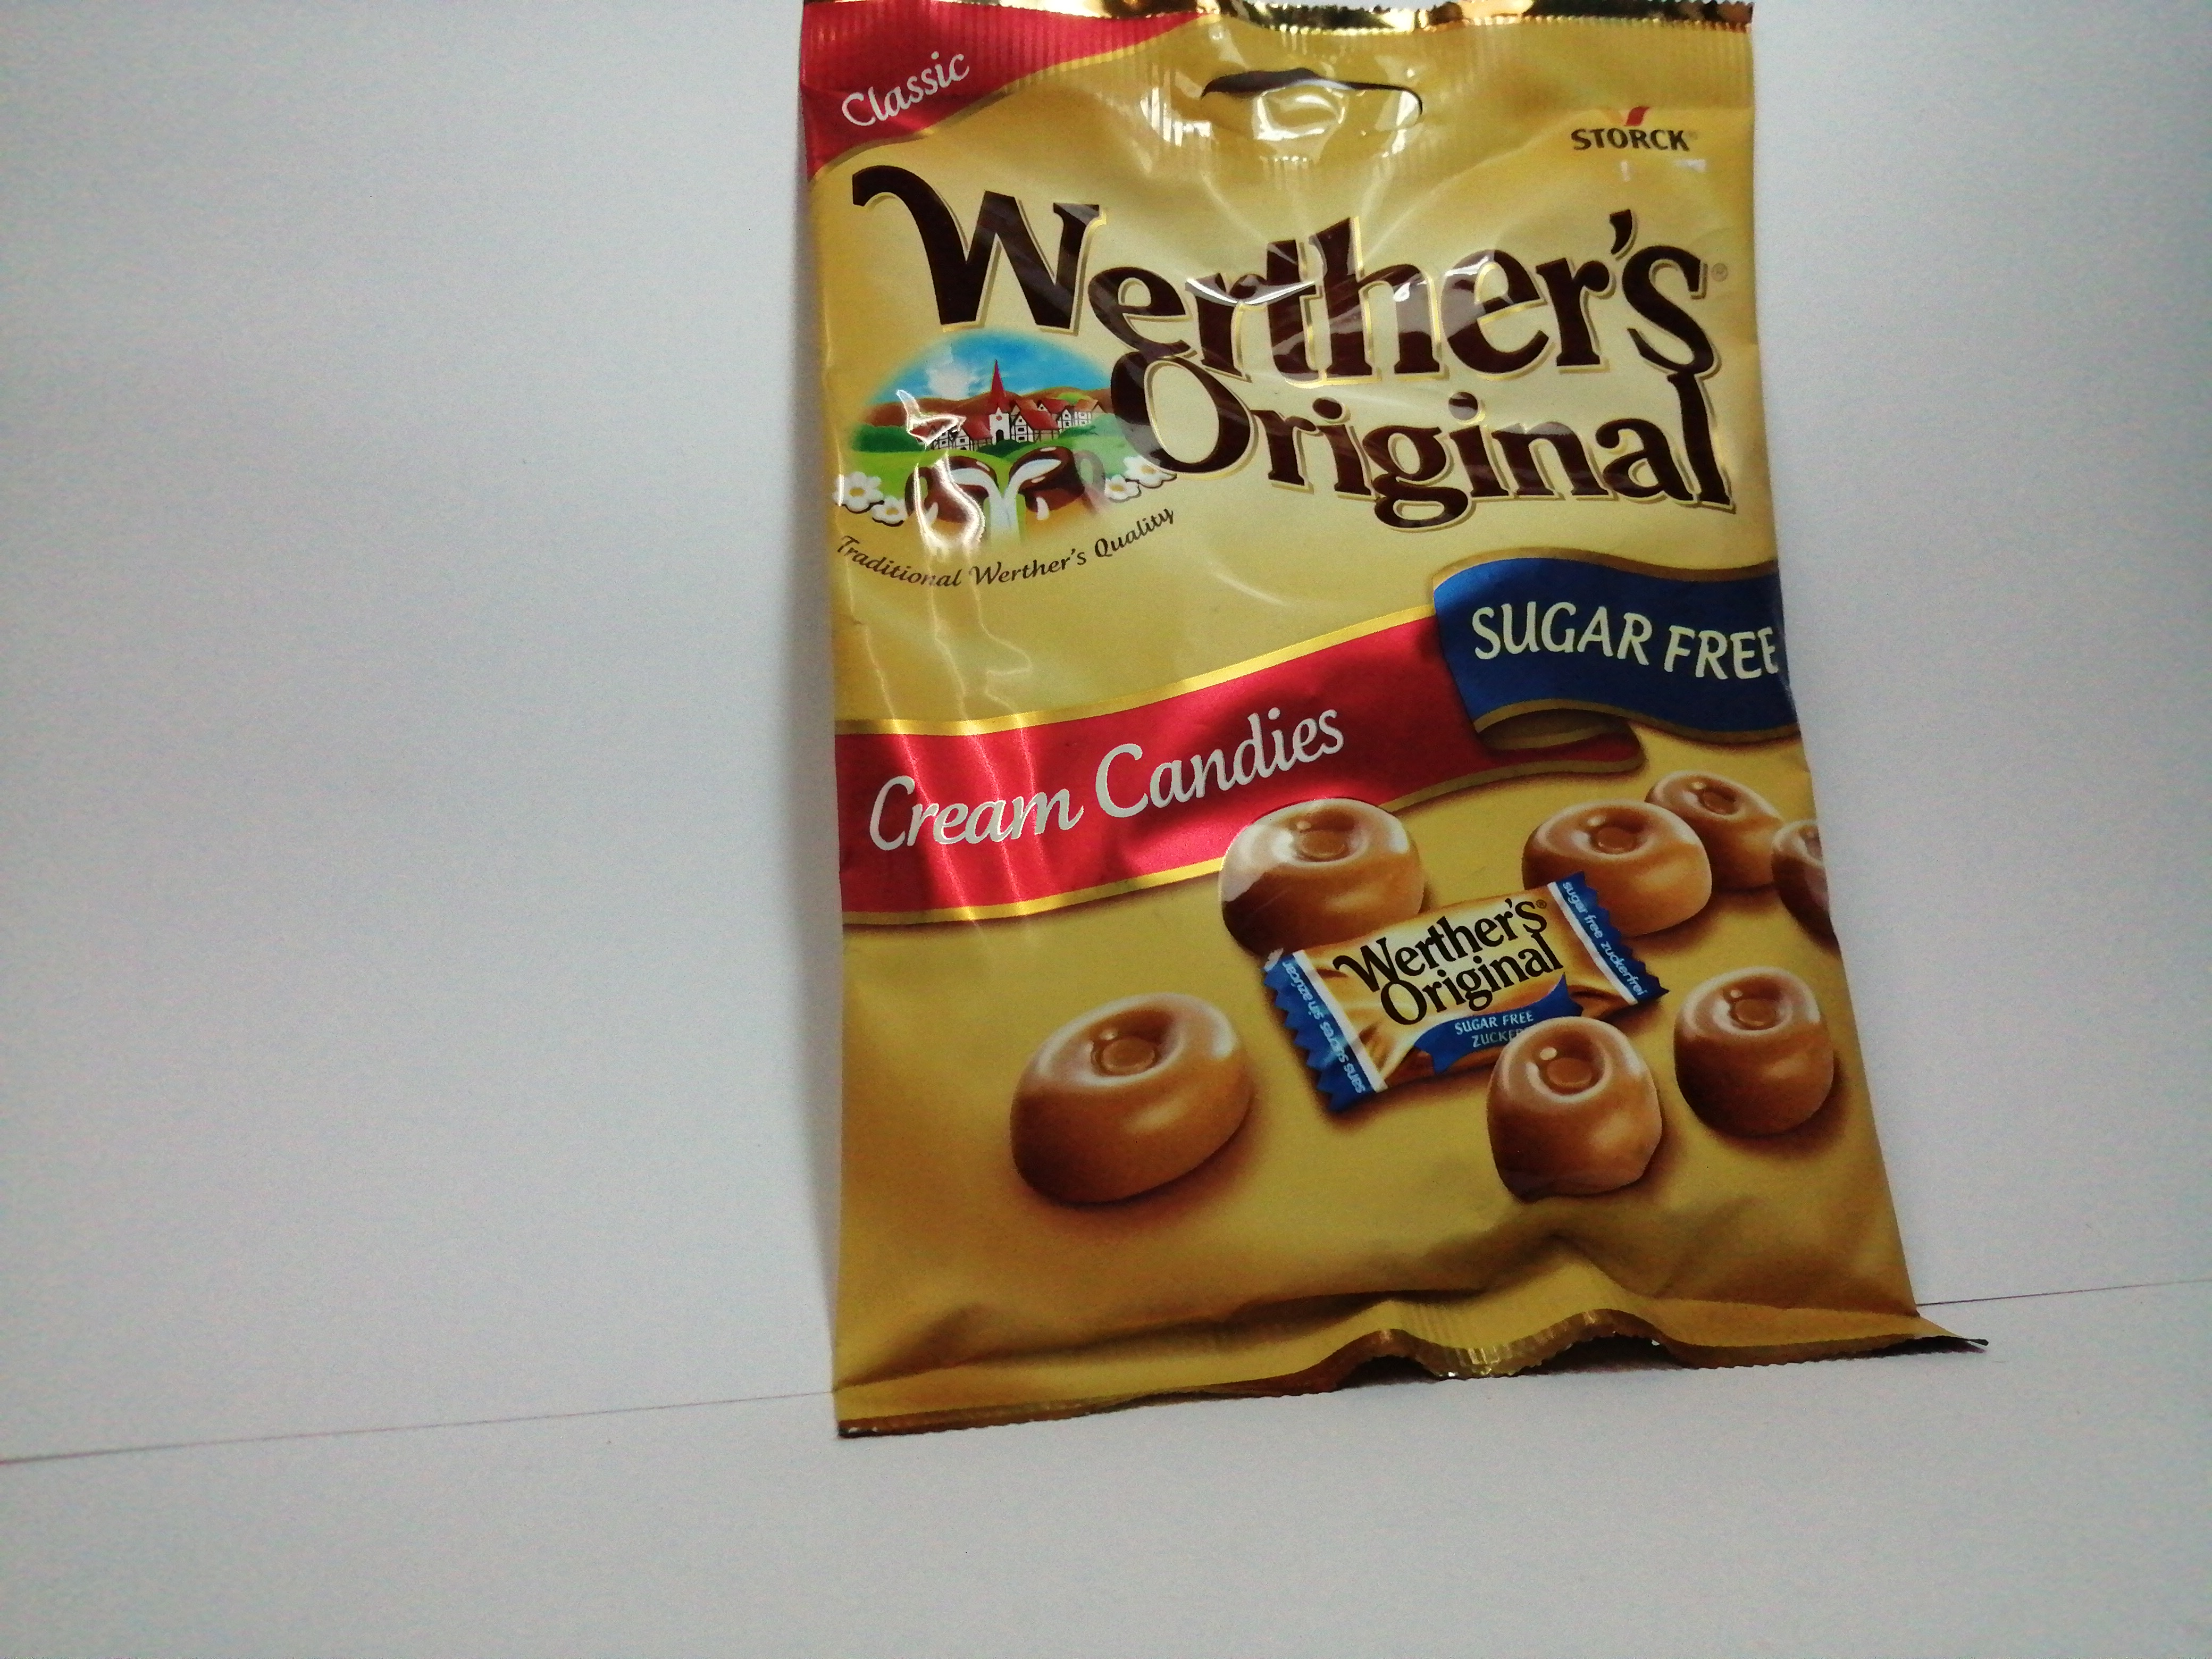dulces: (789, 0, 1982, 1436)
